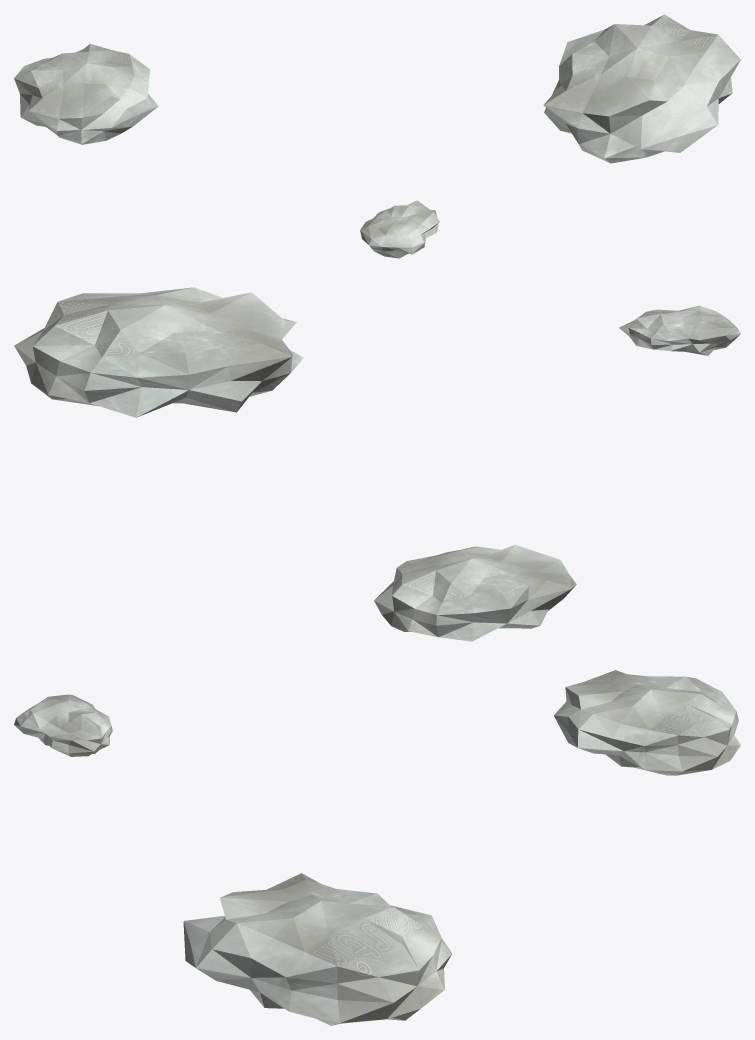
File: nubes.obj
3 views of the same model, one above another, from view 1: azimuth 30°, elevation 25°; view 2: azimuth 150°, elevation 25°; view 3: azimuth 270°, elevation 25° (orthographic). The views are drawn at different scales.
Visible parts, largest first — view 1: cloud:clouds cloud:pCube4 cloud:polySurface1, cloud:clouds cloud:pCube3 cloud:polySurface1, cloud:clouds cloud:pCube5 cloud:polySurface1; view 2: cloud:clouds cloud:pCube4 cloud:polySurface1, cloud:clouds cloud:pCube3 cloud:polySurface1, cloud:clouds cloud:pCube5 cloud:polySurface1; view 3: cloud:clouds cloud:pCube4 cloud:polySurface1, cloud:clouds cloud:pCube3 cloud:polySurface1, cloud:clouds cloud:pCube5 cloud:polySurface1.
Boxes of the visible parts, box(x1,y1,x2,y2) form: cloud:clouds cloud:pCube4 cloud:polySurface1: box(543, 14, 740, 163); cloud:clouds cloud:pCube3 cloud:polySurface1: box(14, 44, 158, 144); cloud:clouds cloud:pCube5 cloud:polySurface1: box(360, 200, 439, 258); cloud:clouds cloud:pCube4 cloud:polySurface1: box(14, 287, 303, 417); cloud:clouds cloud:pCube3 cloud:polySurface1: box(374, 544, 576, 641); cloud:clouds cloud:pCube5 cloud:polySurface1: box(619, 305, 740, 355); cloud:clouds cloud:pCube4 cloud:polySurface1: box(183, 873, 452, 1025); cloud:clouds cloud:pCube3 cloud:polySurface1: box(554, 670, 740, 775); cloud:clouds cloud:pCube5 cloud:polySurface1: box(14, 694, 112, 756).
Bounding box in the file's own units: 41.8 × 5.8 × 38.56.
1 material, 1 textured.
